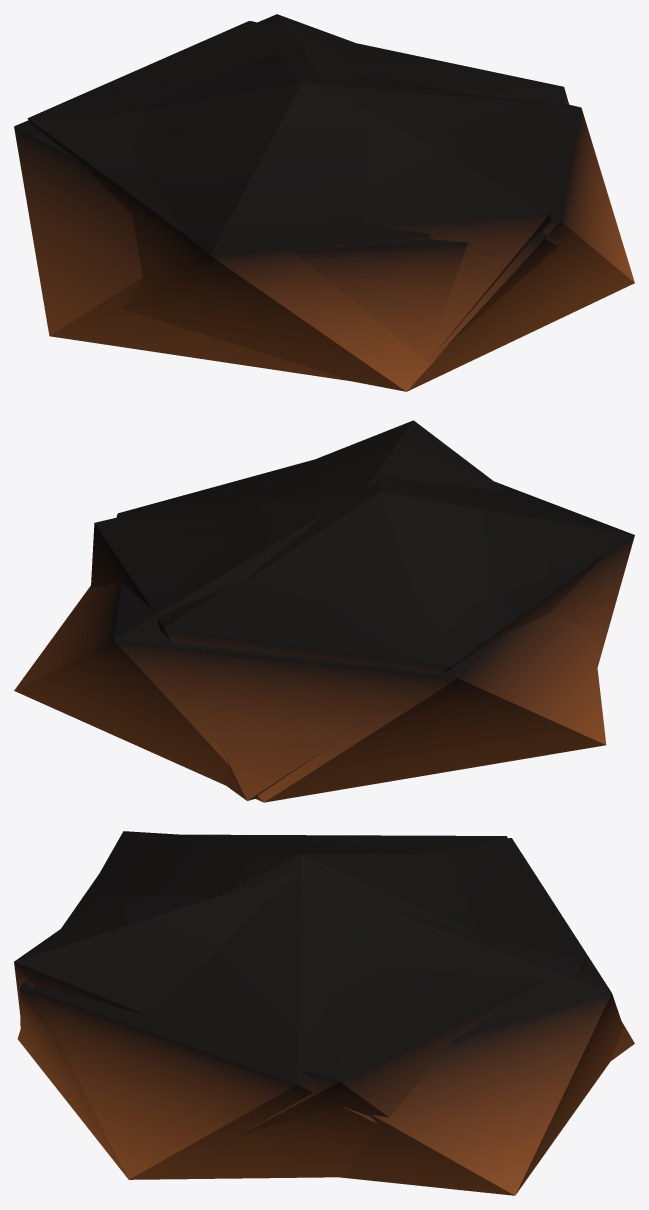
File: lavarock_lod1.glb
3 renders of one model, top to bottom at view 1: azimuth 30°, elevation 25°; view 2: azimuth 150°, elevation 25°; view 3: azimuth 270°, elevation 25°, orthographic. The views are drawn at different scales.
Parts seen in each view (by area): view 1: v1, v0, v2; view 2: v0, v1, v2; view 3: v1, v0, v2.
Boxes of the visible parts, x1,y1,x2,y2 form: v1: (123, 53, 634, 391); v0: (14, 14, 551, 381); v2: (27, 21, 568, 363); v0: (14, 420, 606, 802); v1: (116, 459, 634, 667); v2: (91, 514, 603, 800); v1: (17, 831, 477, 1179); v0: (14, 838, 623, 1195); v2: (19, 834, 634, 1136).
Bounding box in the file's own units: 0.8512 × 0.3329 × 0.8554.
